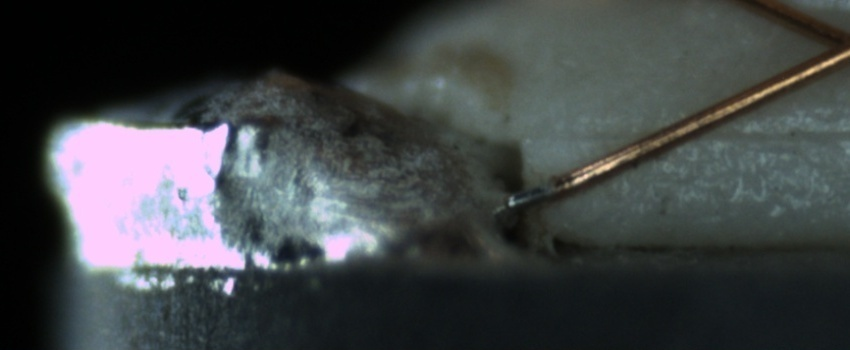CL: (796, 10, 850, 77)
DL: (549, 102, 845, 162)
TS: (505, 176, 556, 209)
